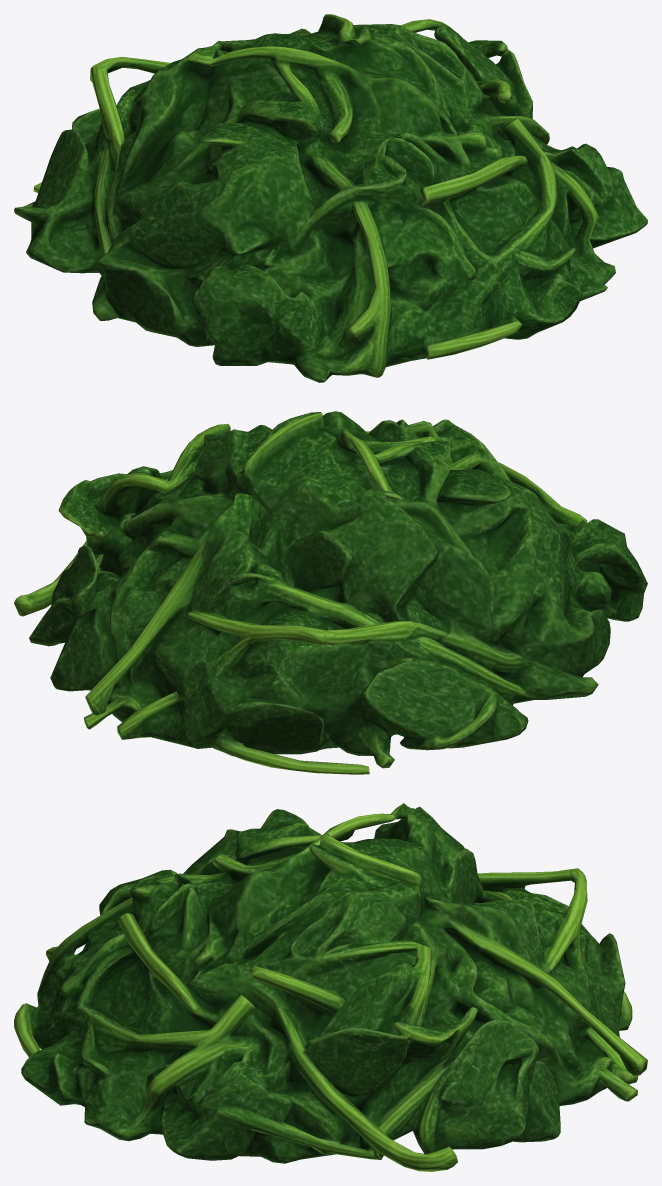
Rendered from Espinaca_Cocida.fbx.
3 views of the same model, one above another, from view 1: azimuth 30°, elevation 25°; view 2: azimuth 150°, elevation 25°; view 3: azimuth 270°, elevation 25° (orthographic). The views are drawn at different scales.
Visible parts, largest first — view 1: Mesh_0; view 2: Mesh_0; view 3: Mesh_0.
Part boxes in pixels (left/top/right/bottom): Mesh_0: left=14, top=14, right=647, bottom=382; Mesh_0: left=14, top=411, right=647, bottom=774; Mesh_0: left=14, top=803, right=647, bottom=1171.
Bounding box in the file's own units: 177 × 77.03 × 190.
1 material, 1 textured.
